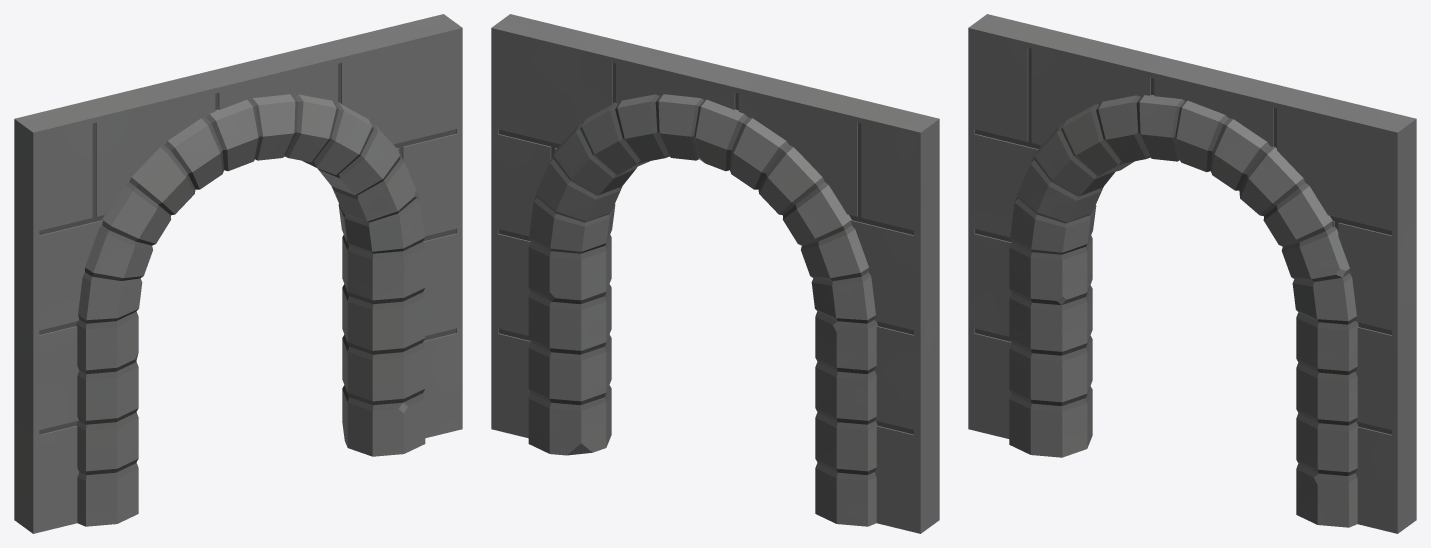
File: Arch_3_Wall.fbx
The picture shows the model from 3 angles, left to right: view 1: azimuth 30°, elevation 25°; view 2: azimuth 150°, elevation 25°; view 3: azimuth 330°, elevation 25°; orthographic projection.
Parts seen in each view (by area): view 1: Arch 3 Wall; view 2: Arch 3 Wall; view 3: Arch 3 Wall.
Part boxes in pixels (<box>): Arch 3 Wall: <box>14,14,462,533</box>; Arch 3 Wall: <box>491,14,939,533</box>; Arch 3 Wall: <box>968,14,1416,533</box>.
Bounding box in the file's own units: 280 × 250 × 45.95.
